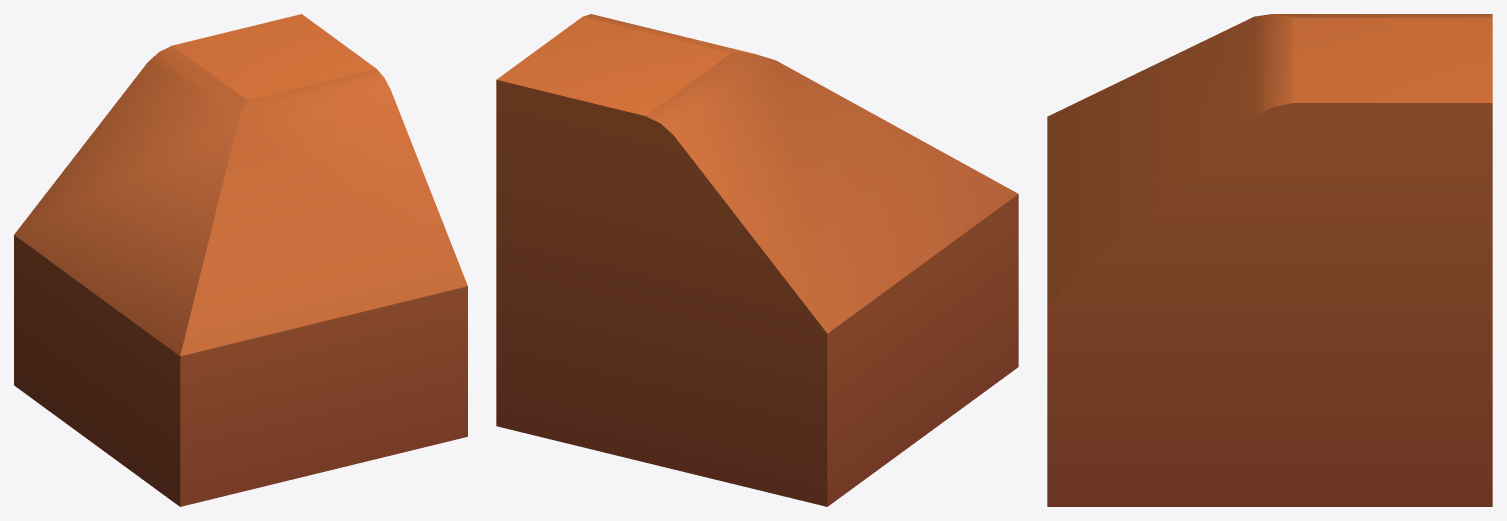
The model's file is terrain_slope_outer_corner.glb.
3 renders of one model, left to right at view 1: azimuth 30°, elevation 25°; view 2: azimuth 150°, elevation 25°; view 3: azimuth 270°, elevation 25°, orthographic. The views are drawn at different scales.
Parts seen in each view (by area): view 1: terrain_slope_outer_corner; view 2: terrain_slope_outer_corner; view 3: terrain_slope_outer_corner.
Boxes of the visible parts, x1,y1,x2,y2 form: terrain_slope_outer_corner: [14, 14, 467, 506]; terrain_slope_outer_corner: [496, 14, 1018, 506]; terrain_slope_outer_corner: [1047, 14, 1492, 506].
Size of the model in its own units: 6 by 6 by 6.
Materials: 1 (1 with a texture image).
